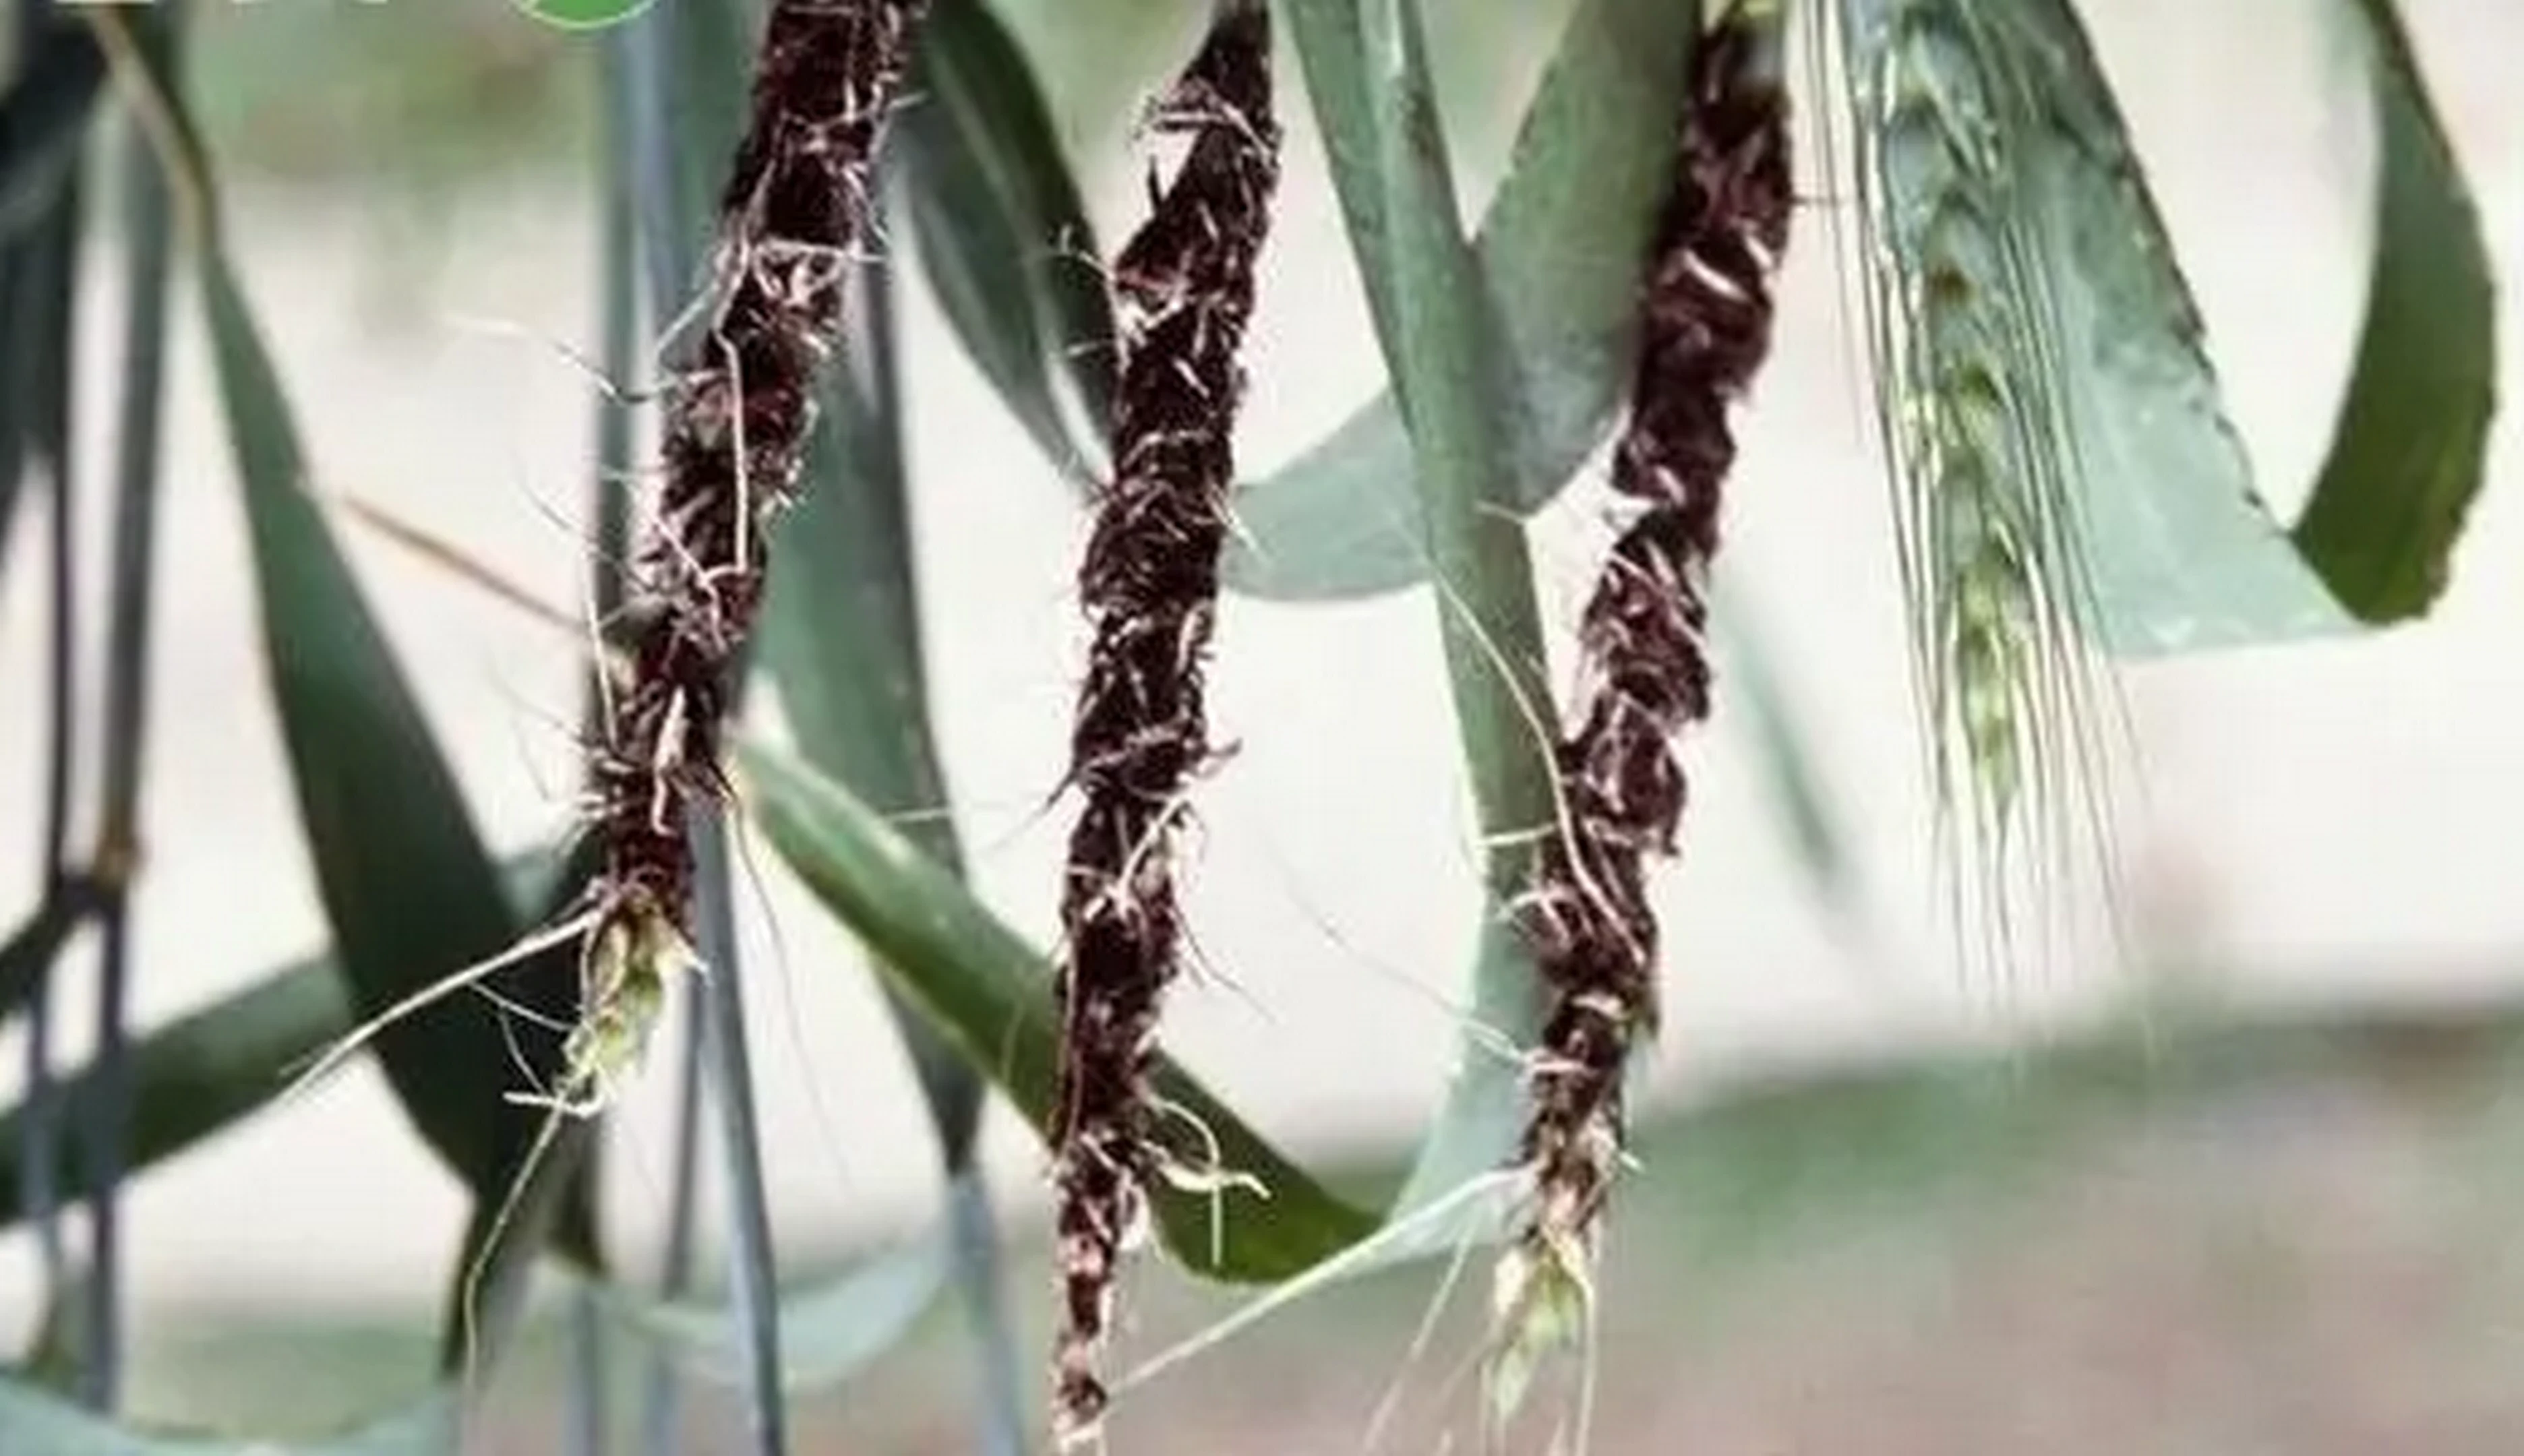Wheat Loose Smut: (1475, 85, 1843, 1324), (999, 57, 1326, 1302), (527, 21, 936, 981)
